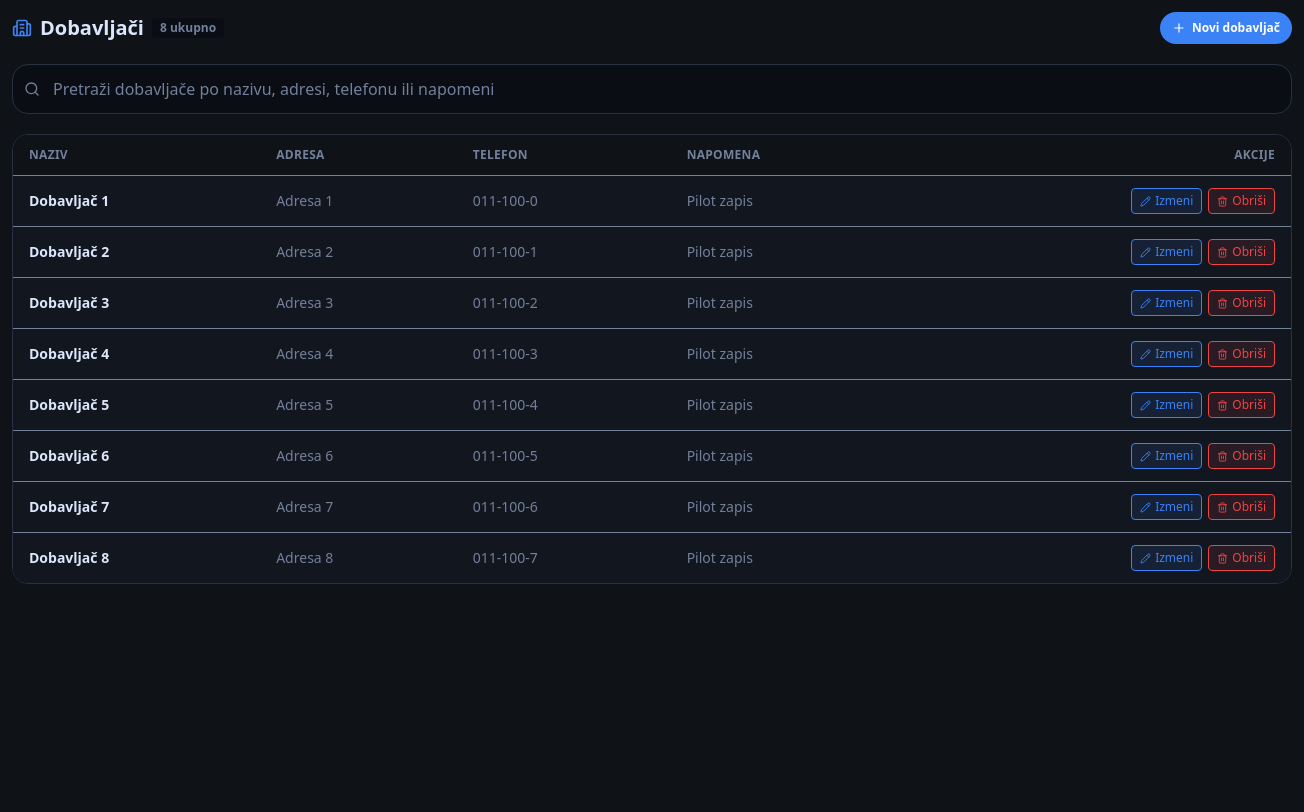
Scenario: DobavljaciPage responsive list › filters by contact fields without changing the loaded supplier set
This screenshot has width=1304, height=812.
Type "011-100-5" into the search field labelled "Pretraži dobavljače". click: (652, 89)
box: [12,64,1292,114]
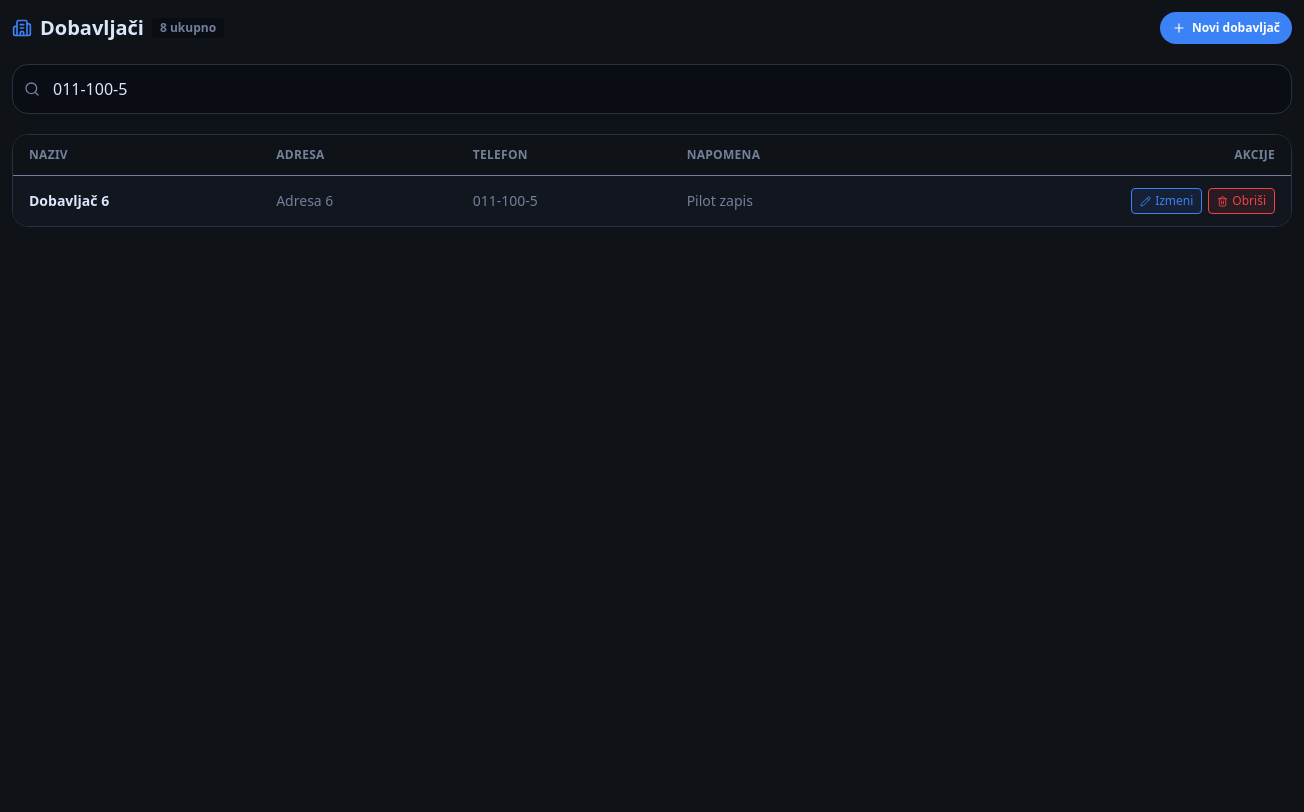
Check: the text "Dobavljač 6" is shown, box [13,176,260,226]
Check: the text "Dobavljač 1" is gone
